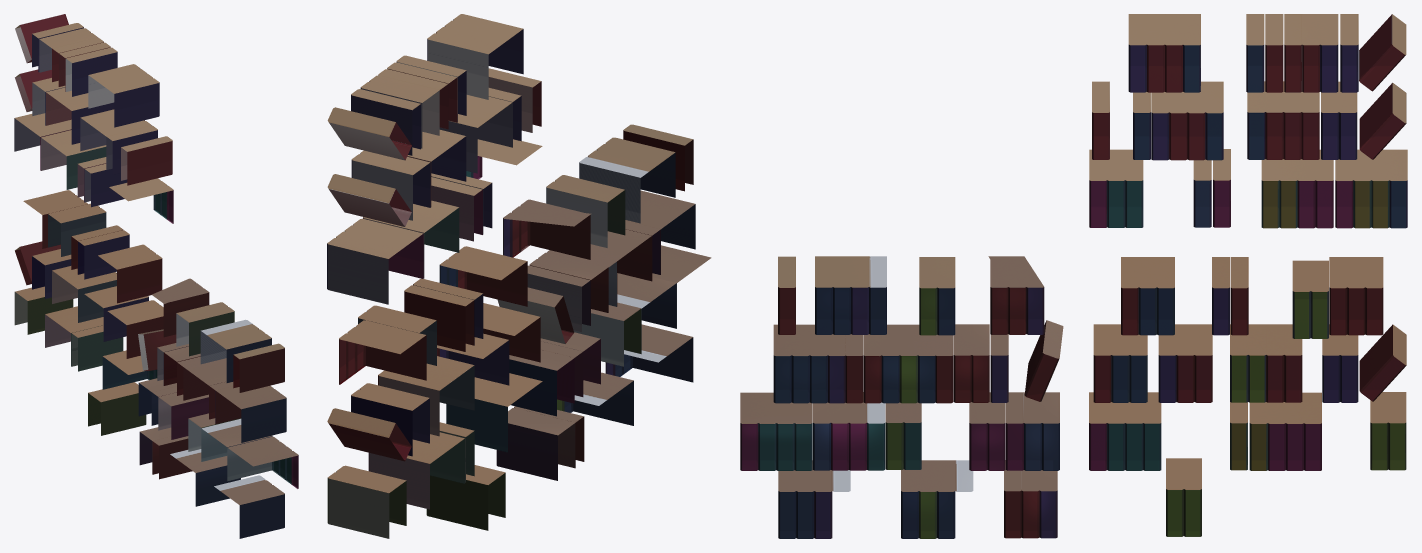
File: Tx_props_uni_books.fbx
The picture shows the model from 3 angles, left to right: view 1: azimuth 30°, elevation 25°; view 2: azimuth 150°, elevation 25°; view 3: azimuth 270°, elevation 25°; orthographic projection. The views are drawn at different scales.
Visible parts, largest first — view 1: Tx_props_uni_books; view 2: Tx_props_uni_books; view 3: Tx_props_uni_books.
Part boxes in pixels (box(x1,y1,x2,y2)): Tx_props_uni_books: box(14, 14, 298, 538); Tx_props_uni_books: box(327, 14, 711, 538); Tx_props_uni_books: box(740, 14, 1407, 538).
Bounding box in the file's own units: 2.47 × 15.75 × 19.3.
